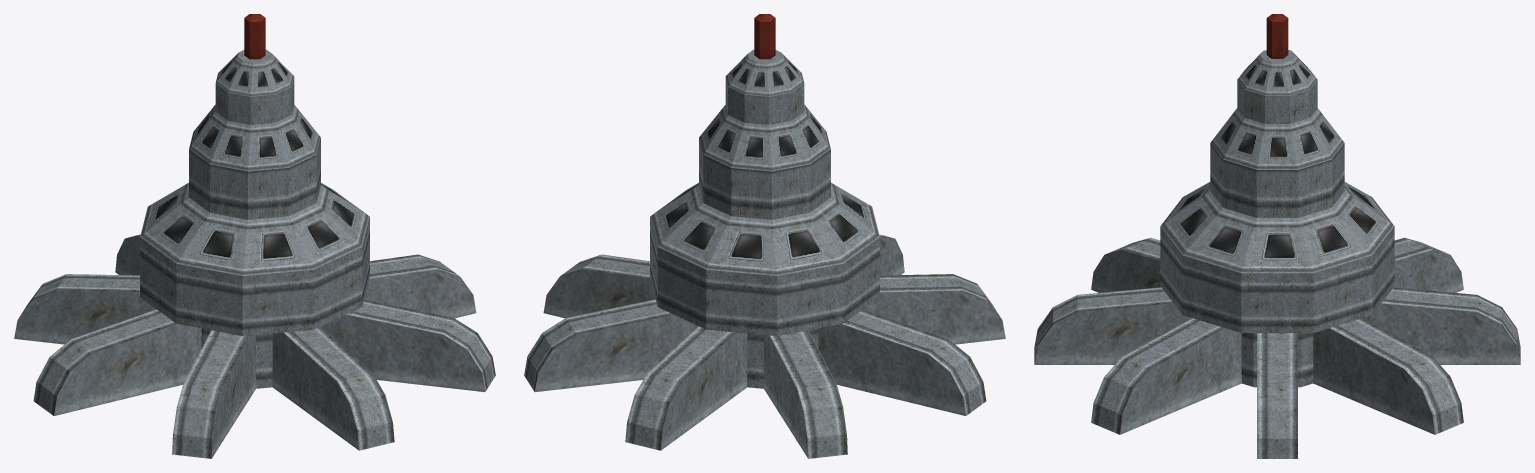
Rendered from dam_genturbine03.obj.
3 views of the same model, side by side, from view 1: azimuth 30°, elevation 25°; view 2: azimuth 150°, elevation 25°; view 3: azimuth 270°, elevation 25° (orthographic).
Parts seen in each view (by area): view 1: dam_genturbine03; view 2: dam_genturbine03; view 3: dam_genturbine03.
Part boxes in pixels (box(x1,y1,x2,y2)): dam_genturbine03: box(14, 14, 495, 458); dam_genturbine03: box(524, 14, 1005, 458); dam_genturbine03: box(1034, 14, 1520, 458).
Bounding box in the file's own units: 8.46 × 6.56 × 8.46.
2 materials, 2 textured.
